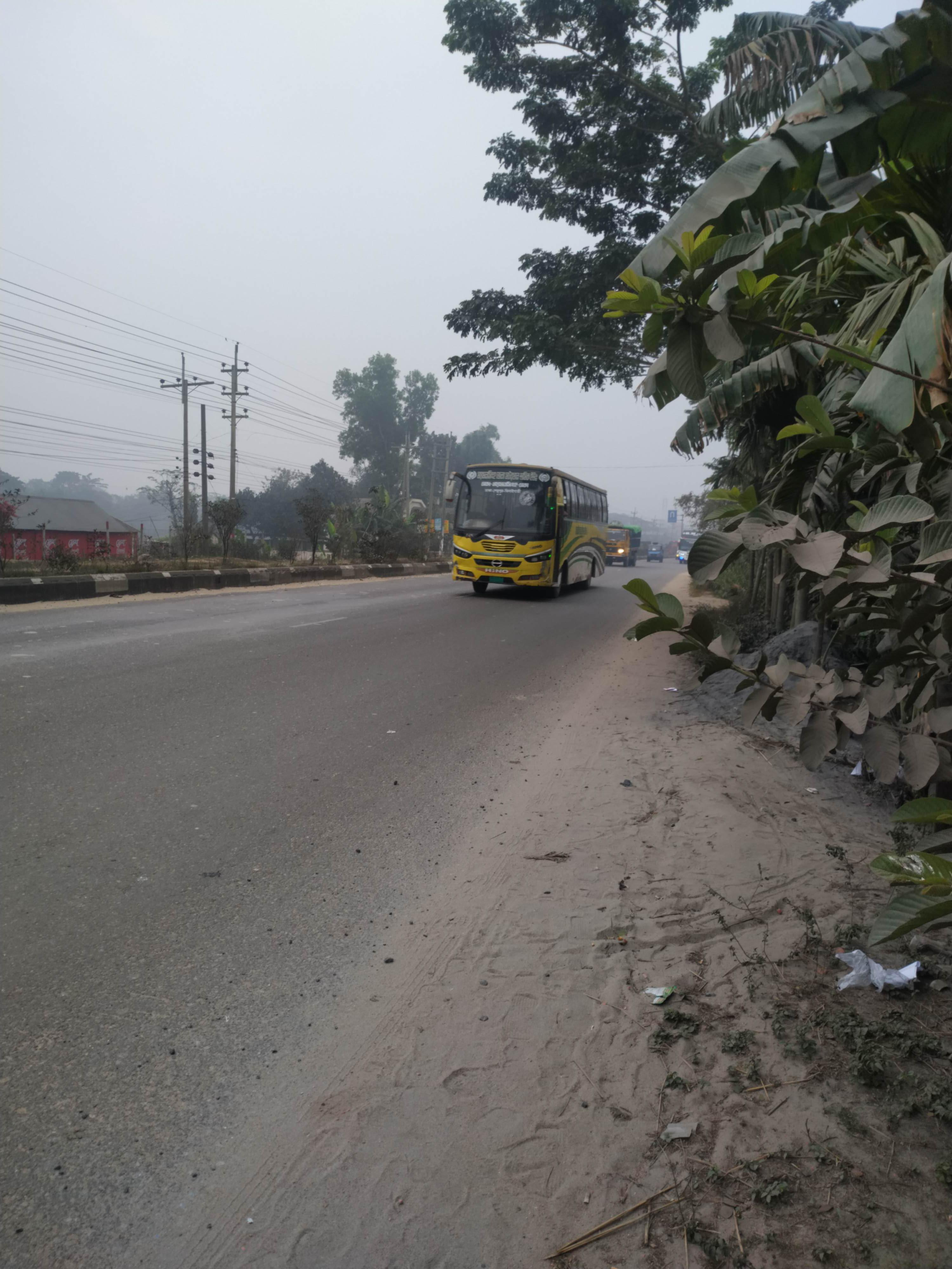Bus: (436, 439, 617, 624)
Truck: (605, 522, 654, 575)
